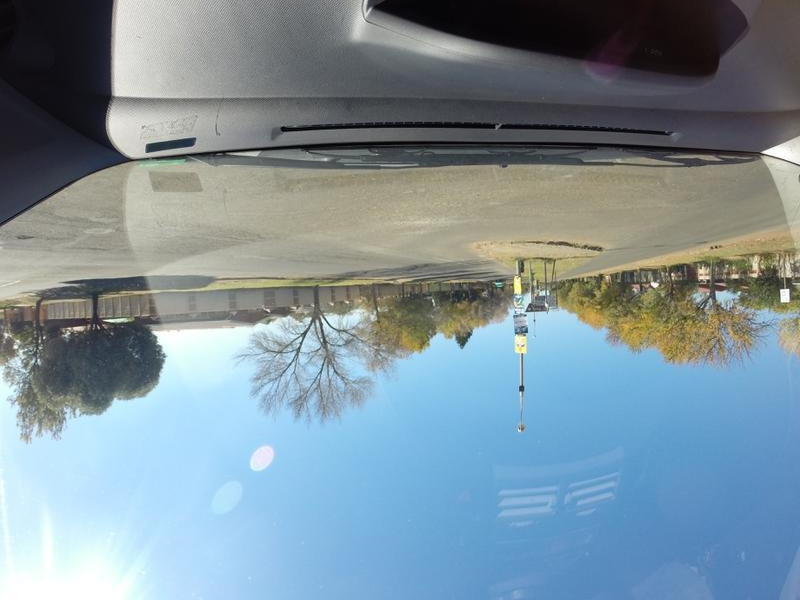pothole: (16, 234, 30, 241)
